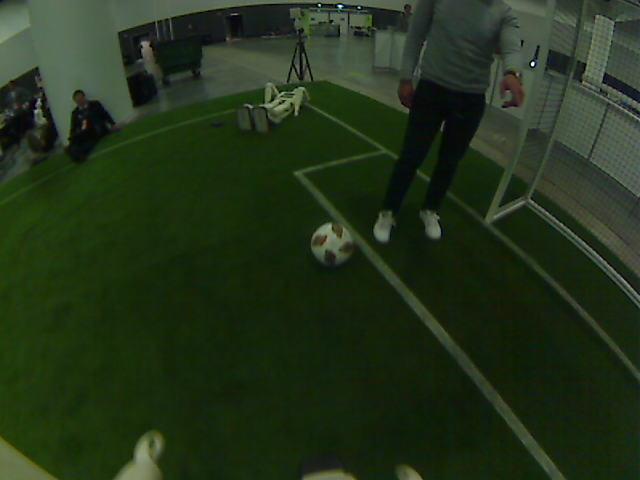ball: (312, 223, 352, 263)
goalpost: (466, 166, 506, 226)
robot: (244, 87, 269, 128)
